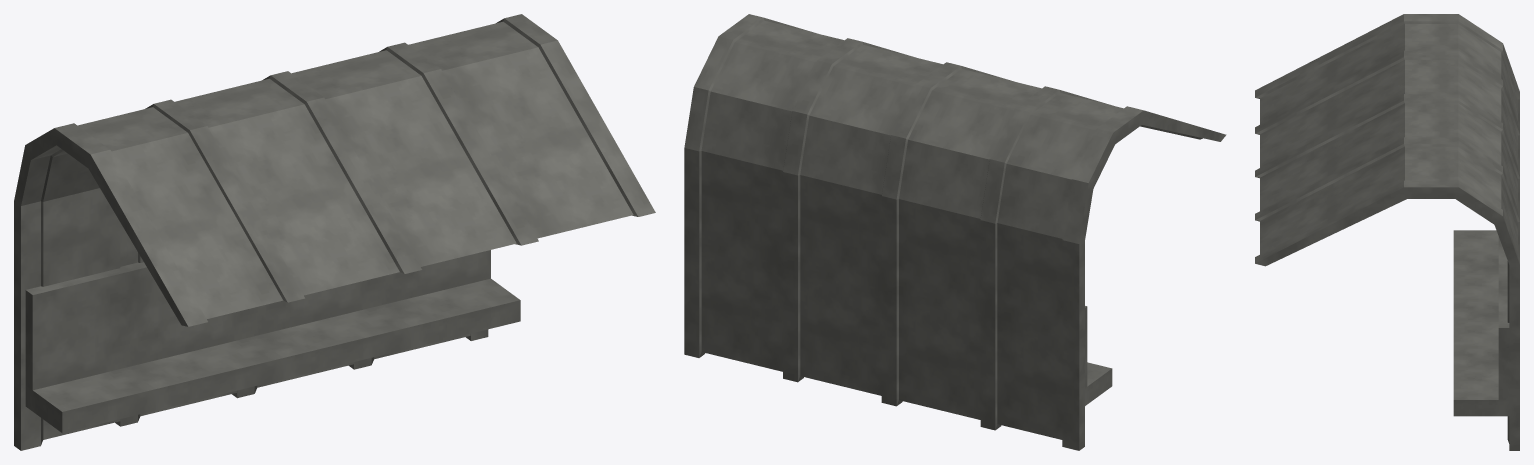
Rendered from bus_shelter.glb.
3 renders of one model, left to right at view 1: azimuth 30°, elevation 25°; view 2: azimuth 150°, elevation 25°; view 3: azimuth 270°, elevation 25°, orthographic. The views are drawn at different scales.
Parts seen in each view (by area): view 1: bus_shelter; view 2: bus_shelter; view 3: bus_shelter.
Part boxes in pixels (x1,y1,x2,y2): bus_shelter: (14, 14, 655, 450); bus_shelter: (684, 14, 1226, 450); bus_shelter: (1255, 14, 1519, 450).
Bounding box in the file's own units: 3.66 × 2.6 × 2.37.
1 material, 1 textured.
